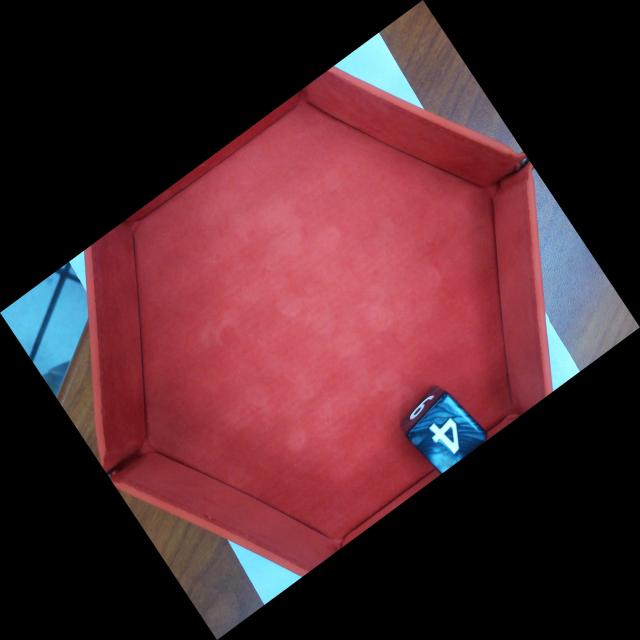dice: (404, 389, 491, 476)
